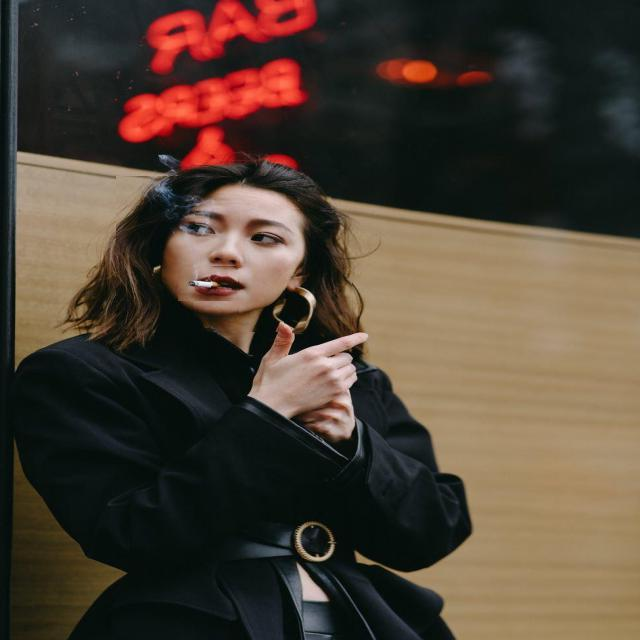cigarette: (178, 266, 252, 302)
